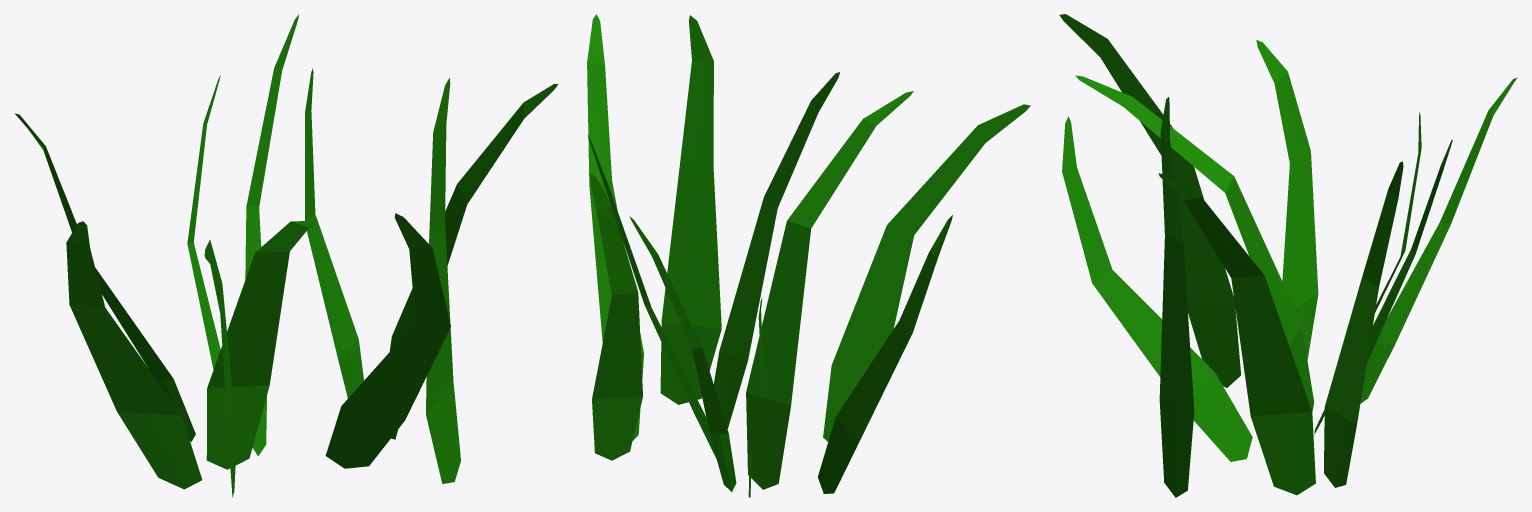
The model's file is Grass.glb.
The picture shows the model from 3 angles, left to right: view 1: azimuth 30°, elevation 25°; view 2: azimuth 150°, elevation 25°; view 3: azimuth 270°, elevation 25°; orthographic projection. The views are drawn at different scales.
Visible parts, largest first — view 1: Grass; view 2: Grass; view 3: Grass.
Boxes of the visible parts, x1,y1,x2,y2 form: Grass: (15, 14, 558, 497); Grass: (587, 14, 1030, 497); Grass: (1059, 14, 1517, 497).
Bounding box in the file's own units: 0.0429 × 0.0393 × 0.0411.
